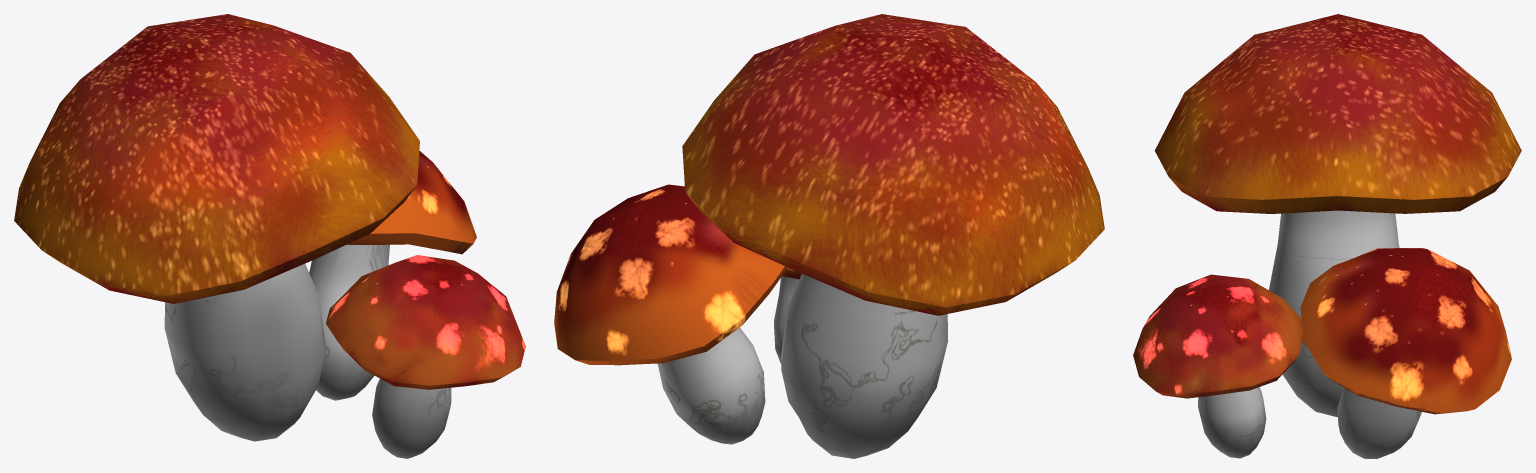
Rendered from Mushroom.fbx.
3 views of the same model, side by side, from view 1: azimuth 30°, elevation 25°; view 2: azimuth 150°, elevation 25°; view 3: azimuth 270°, elevation 25° (orthographic). The views are drawn at different scales.
Visible parts, largest first — view 1: Mushrooms; view 2: Mushrooms; view 3: Mushrooms.
Boxes of the visible parts, left/top/right/bottom form: Mushrooms: left=14, top=14, right=525, bottom=458; Mushrooms: left=554, top=14, right=1104, bottom=458; Mushrooms: left=1133, top=14, right=1521, bottom=458.
Size of the model in its own units: 82.7 by 71.99 by 68.41.
